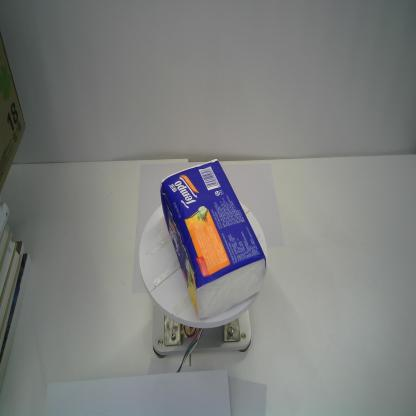Tissue: (160, 157, 266, 320)
